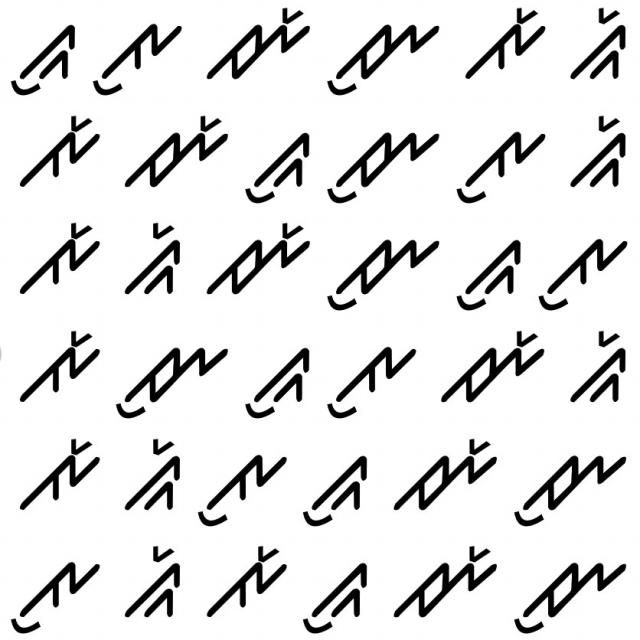ar: (12, 428, 103, 514), (13, 322, 103, 404), (204, 540, 290, 624), (12, 216, 100, 297), (461, 0, 548, 78), (20, 111, 102, 192)
aw: (535, 229, 633, 313), (453, 118, 546, 206), (5, 555, 104, 636), (196, 443, 289, 529), (323, 340, 417, 422), (93, 21, 187, 98)
nggar: (124, 544, 192, 634), (119, 218, 186, 306), (558, 325, 628, 408), (120, 436, 184, 523), (568, 111, 632, 192), (568, 4, 629, 84)
nggaw: (292, 448, 373, 526), (236, 124, 312, 206), (237, 341, 314, 421), (451, 229, 524, 313), (304, 554, 374, 636), (8, 23, 84, 96)
njar: (118, 107, 229, 198), (204, 220, 316, 310), (204, 4, 312, 96), (437, 325, 547, 413), (390, 428, 498, 517), (392, 540, 500, 624)
njaw: (512, 438, 632, 530), (324, 13, 450, 99), (514, 549, 632, 639), (114, 333, 232, 422), (323, 225, 442, 313), (323, 122, 444, 206)
